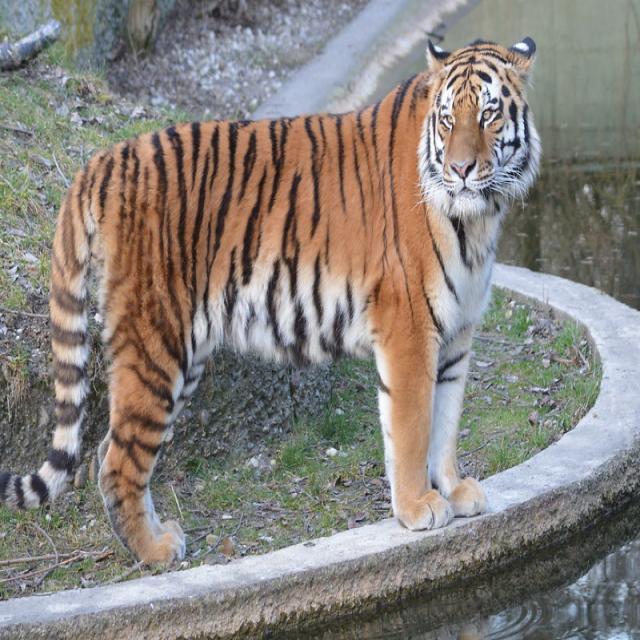Tiger: (20, 18, 536, 569)
